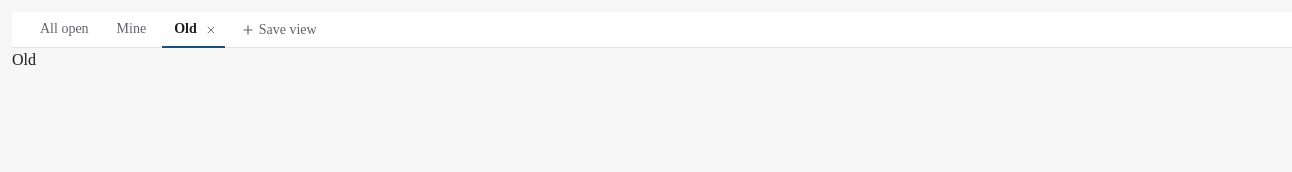
SavedViewTabs › remembers the chosen built-in view and removes saved views
Later steps or results of the test are not shown.
Expected: the text with test id "active" reads "Old", [12,51,36,68]
Click the button named "Remove view Old" at (211, 30), box [201,20,221,40]
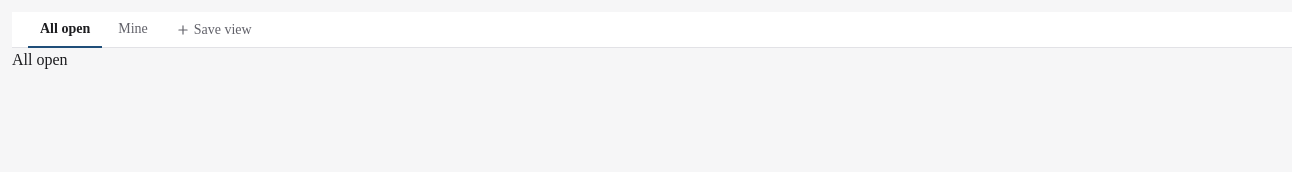
Expected: the tab "Old" is gone
Expected: the text with test id "active" reads "All open", [12,51,68,68]
